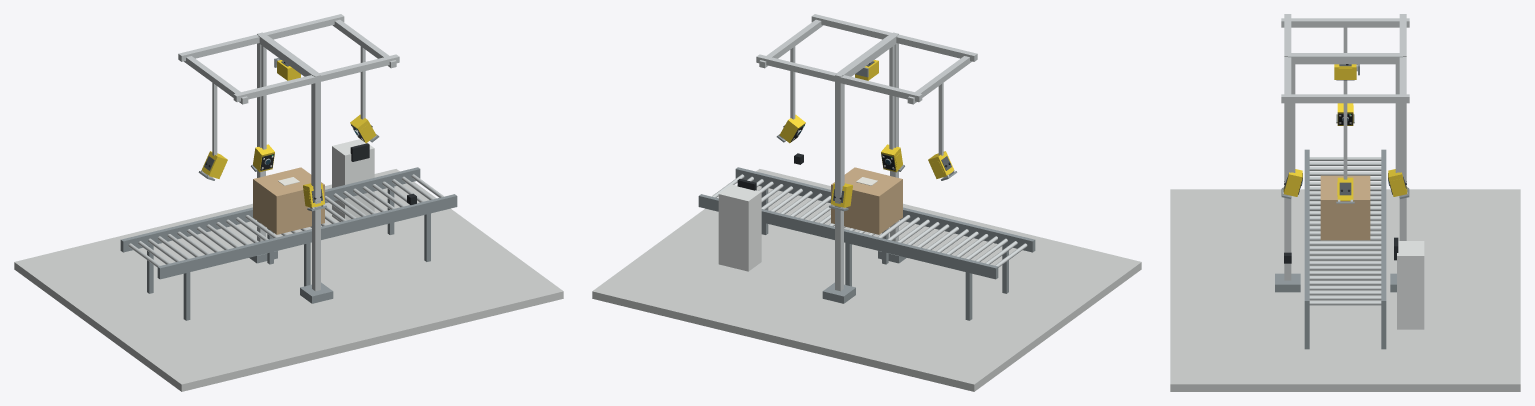
3 views of the same model, side by side, from view 1: azimuth 30°, elevation 25°; view 2: azimuth 150°, elevation 25°; view 3: azimuth 270°, elevation 25° (orthographic). The views are drawn at different scales.
Parts seen in each view (by area): view 1: Floor, Conveyor side rail, Parcel, Conveyor side rail.001, Control cabinet, Extrusion upright, Longitudinal top frame, Longitudinal top frame.001, Overhead crossbeam, End-face sensor bracket, End-face sensor bracket.001, Extrusion upright.001 (+1 smaller); view 2: Floor, Conveyor side rail.001, Control cabinet, Parcel, Conveyor side rail, Extrusion upright.001, Longitudinal top frame.001, Longitudinal top frame, Overhead crossbeam, End-face sensor bracket, End-face sensor bracket.001, Extrusion upright (+1 smaller); view 3: Floor, Parcel, Control cabinet, Overhead crossbeam, Extrusion upright, End-face sensor bracket, End-face sensor bracket.001, Conveyor side rail, Conveyor side rail.001, Extrusion upright.001, Longitudinal top frame, Longitudinal top frame.001 (+21 smaller).
Part boxes in pixels (<box>): Floor: <box>14,169,563,391</box>; Conveyor side rail: <box>157,194,457,279</box>; Parcel: <box>253,167,324,234</box>; Conveyor side rail.001: <box>120,167,420,252</box>; Control cabinet: <box>332,139,374,221</box>; Extrusion upright: <box>312,74,320,291</box>; Longitudinal top frame: <box>233,54,399,102</box>; Longitudinal top frame.001: <box>178,14,344,61</box>; Overhead crossbeam: <box>258,33,319,76</box>; End-face sensor bracket: <box>184,56,248,104</box>; End-face sensor bracket.001: <box>332,19,396,68</box>; Extrusion upright.001: <box>257,32,265,241</box>; Floor: <box>592,169,1141,391</box>; Conveyor side rail.001: <box>698,194,998,279</box>; Control cabinet: <box>718,184,761,271</box>; Parcel: <box>831,167,902,234</box>; Conveyor side rail: <box>735,167,1035,252</box>; Extrusion upright.001: <box>835,74,843,291</box>; Longitudinal top frame.001: <box>756,54,922,102</box>; Longitudinal top frame: <box>811,14,977,61</box>; Overhead crossbeam: <box>836,33,897,76</box>; End-face sensor bracket: <box>907,56,971,104</box>; End-face sensor bracket.001: <box>759,19,823,68</box>; Extrusion upright: <box>890,32,898,241</box>; Floor: <box>1170,189,1520,391</box>; Parcel: <box>1320,175,1370,240</box>; Control cabinet: <box>1397,241,1424,329</box>; Overhead crossbeam: <box>1288,53,1402,64</box>; Extrusion upright: <box>1284,53,1291,280</box>; End-face sensor bracket: <box>1281,18,1409,27</box>; End-face sensor bracket.001: <box>1281,94,1409,103</box>; Conveyor side rail: <box>1304,149,1309,312</box>; Conveyor side rail.001: <box>1381,149,1386,312</box>; Extrusion upright.001: <box>1399,53,1406,240</box>; Longitudinal top frame: <box>1284,14,1291,103</box>; Longitudinal top frame.001: <box>1399,14,1406,103</box>.
Bounding box in the file's own units: 5.4 × 3.1 × 4.1.
